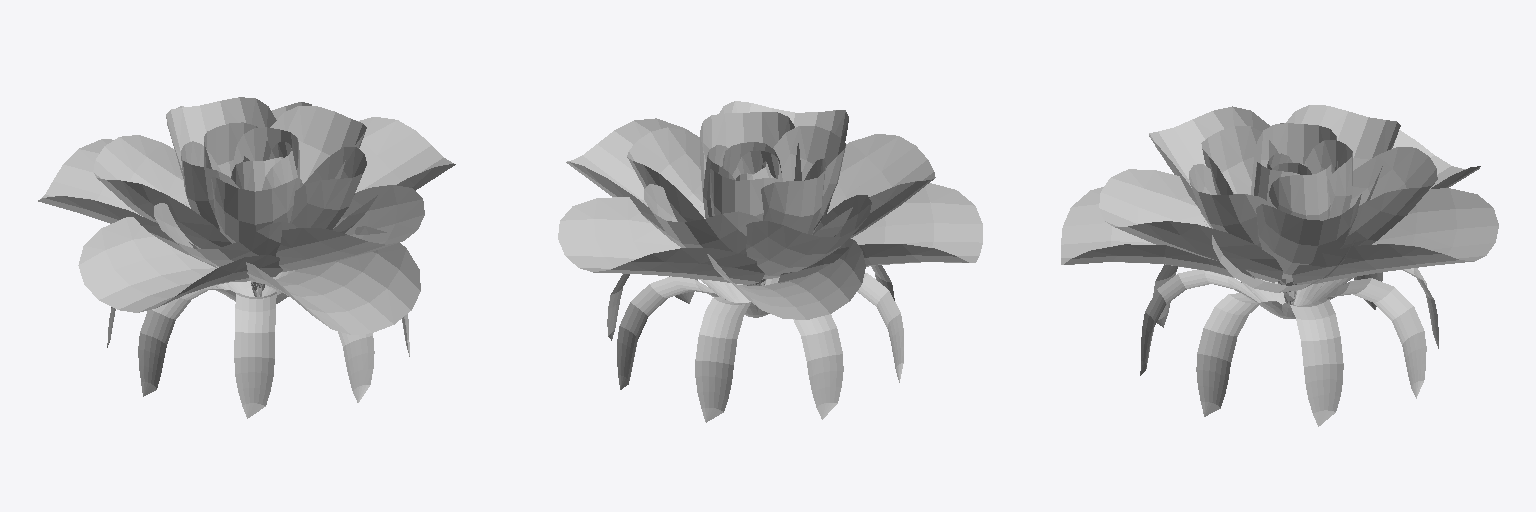
The model's file is FlowerTopModel_03_seq_0038.obj.
The picture shows the model from 3 angles: view 1: azimuth 30°, elevation 25°; view 2: azimuth 150°, elevation 25°; view 3: azimuth 270°, elevation 25°; orthographic projection.
Parts seen in each view (by area): view 1: FlowerTopModel_03; view 2: FlowerTopModel_03; view 3: FlowerTopModel_03.
Boxes of the visible parts, x1,y1,x2,y2 form: FlowerTopModel_03: [38, 97, 455, 418]; FlowerTopModel_03: [558, 101, 982, 422]; FlowerTopModel_03: [1061, 105, 1498, 426].
Size of the model in its own units: 864 by 462 by 878.